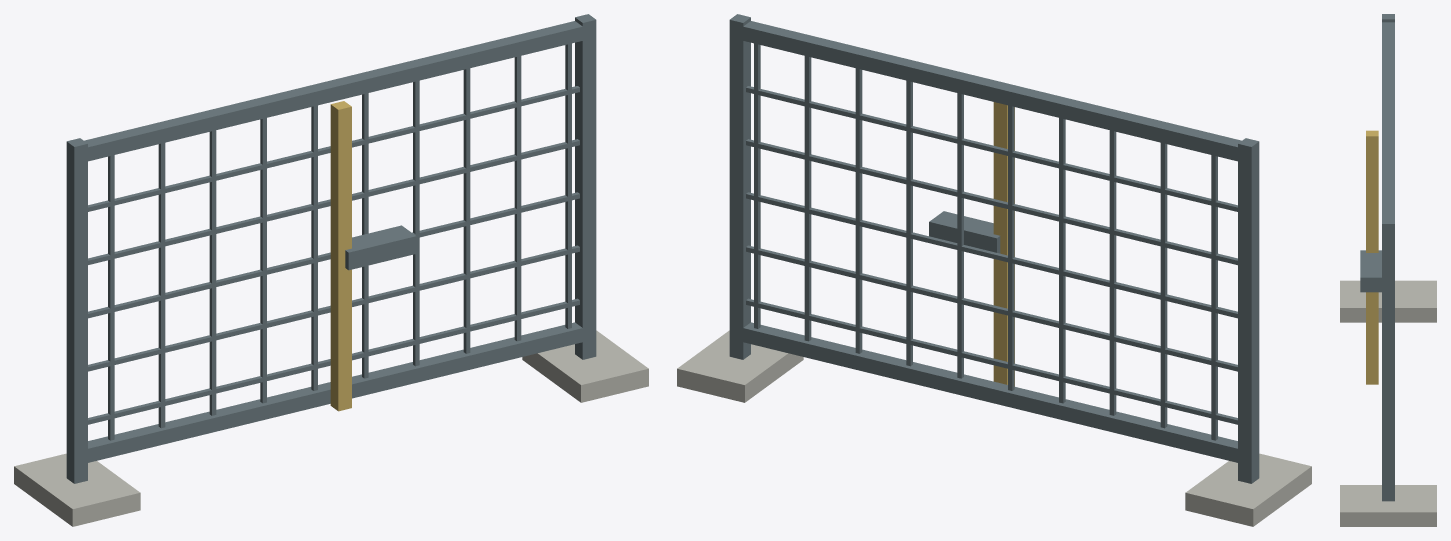
The model's file is zombie-quarantine-streets-chain-fence-gate-3aa2a820__19337.glb.
3 views of the same model, side by side, from view 1: azimuth 30°, elevation 25°; view 2: azimuth 150°, elevation 25°; view 3: azimuth 270°, elevation 25° (orthographic). The views are drawn at different scales.
Visible parts, largest first — view 1: chain-fence-gate; view 2: chain-fence-gate; view 3: chain-fence-gate.
Boxes of the visible parts, <box> form: chain-fence-gate: <box>14,14,648,526</box>; chain-fence-gate: <box>677,14,1311,526</box>; chain-fence-gate: <box>1340,14,1436,526</box>.
Bounding box in the file's own units: 3.4 × 2 × 0.5997.
